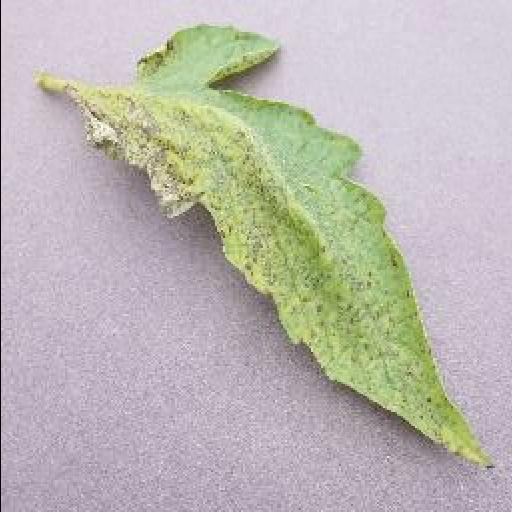disease_tomato: (74, 28, 492, 474)
